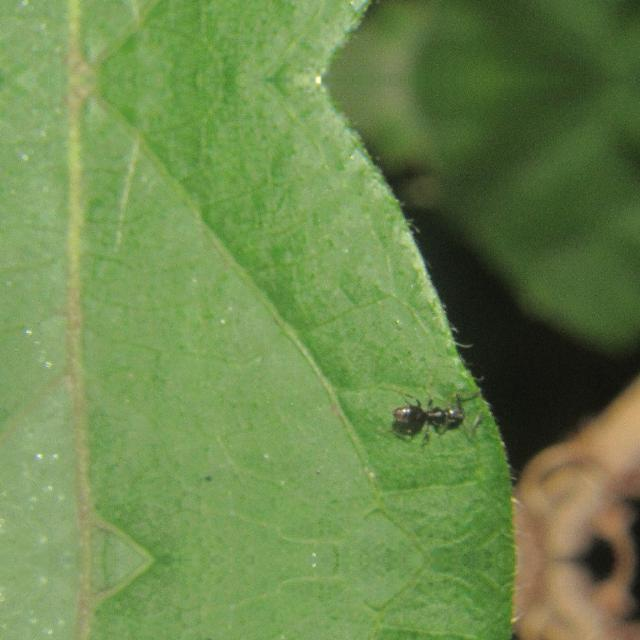Tapinoma: (383, 387, 477, 437)
